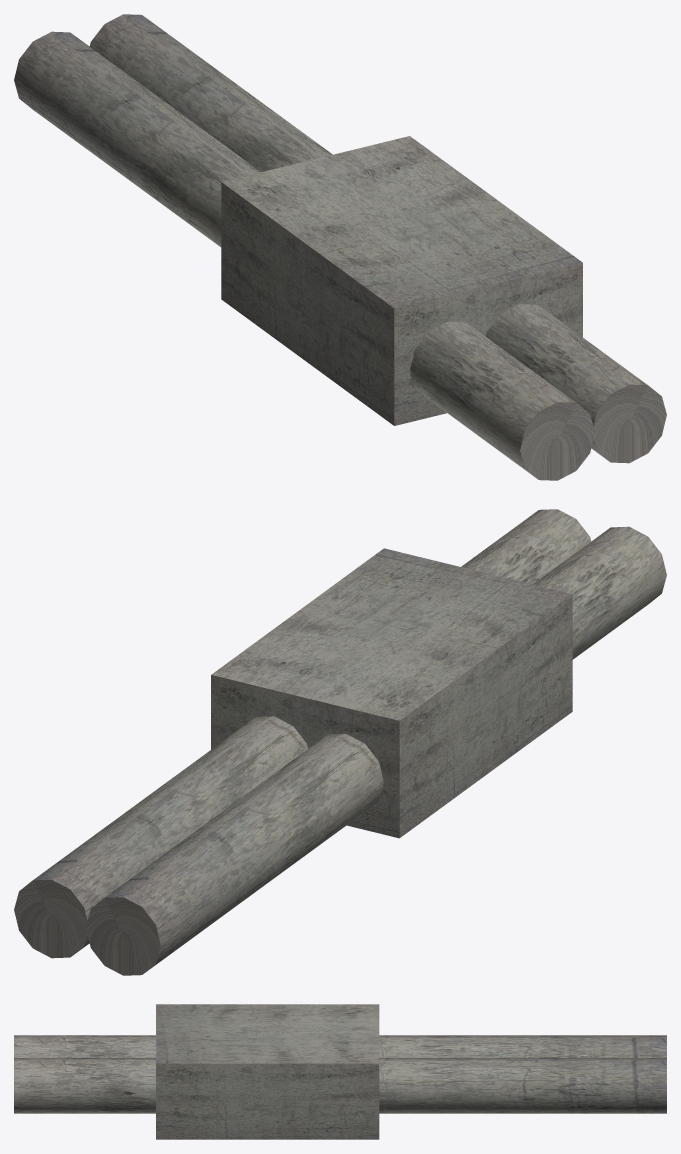
File: shotgun.FBX
The picture shows the model from 3 angles, top to bottom: view 1: azimuth 30°, elevation 25°; view 2: azimuth 150°, elevation 25°; view 3: azimuth 270°, elevation 25°; orthographic projection. The views are drawn at different scales.
Parts seen in each view (by area): view 1: Box001, Cylinder001, Cylinder002; view 2: Box001, Cylinder001, Cylinder002; view 3: Box001, Cylinder002, Cylinder001.
Part boxes in pixels (x1,y1,x2,y2): Box001: (221,136,582,425); Cylinder001: (14,31,594,480); Cylinder002: (89,14,666,463); Box001: (211,548,572,838); Cylinder001: (86,526,666,975); Cylinder002: (14,509,591,958); Box001: (156,1004,379,1139); Cylinder002: (14,1058,666,1113); Cylinder001: (14,1035,666,1057).
Bounding box in the file's own units: 0.0753 × 0.0449 × 0.35.
3 materials, 3 textured.
